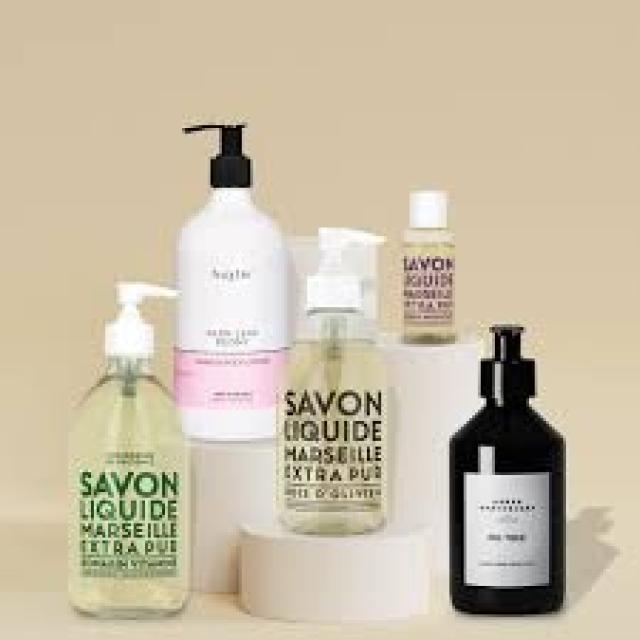liquid soap: (59, 278, 193, 624), (168, 112, 296, 435), (439, 319, 569, 626), (276, 210, 398, 528), (394, 187, 459, 347)
